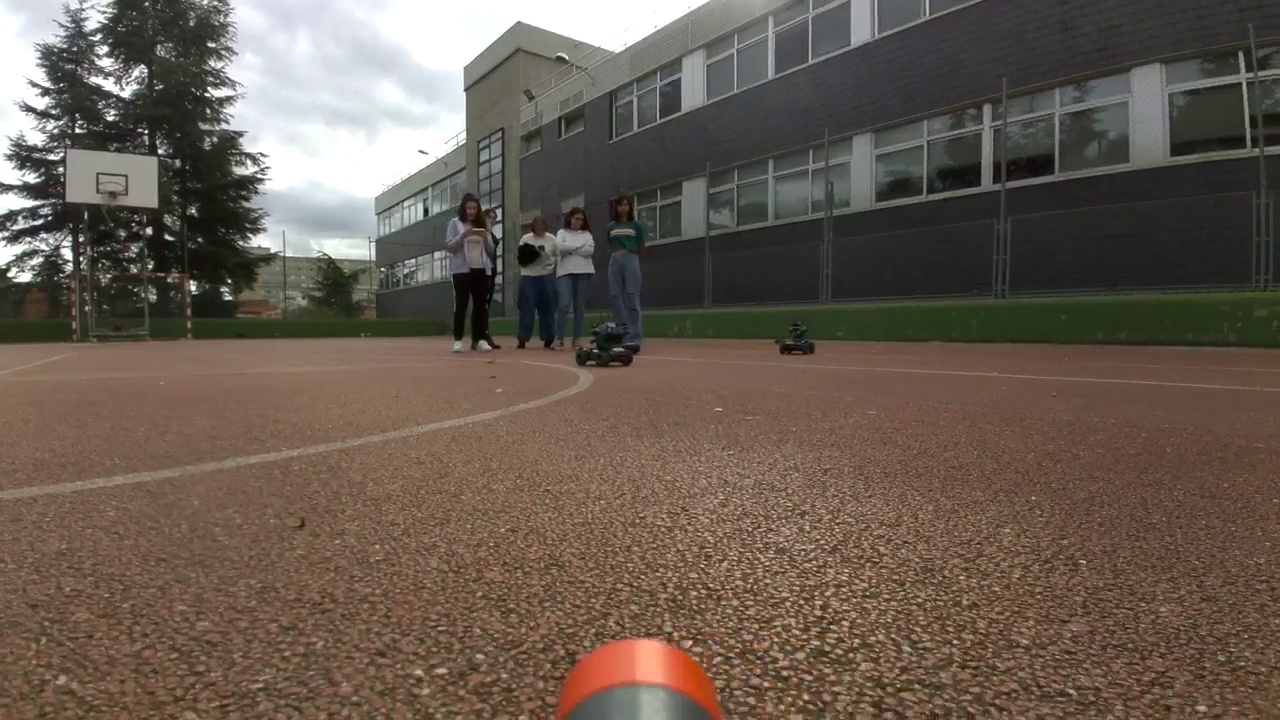robot: (575, 323, 630, 366), (780, 321, 814, 354)
